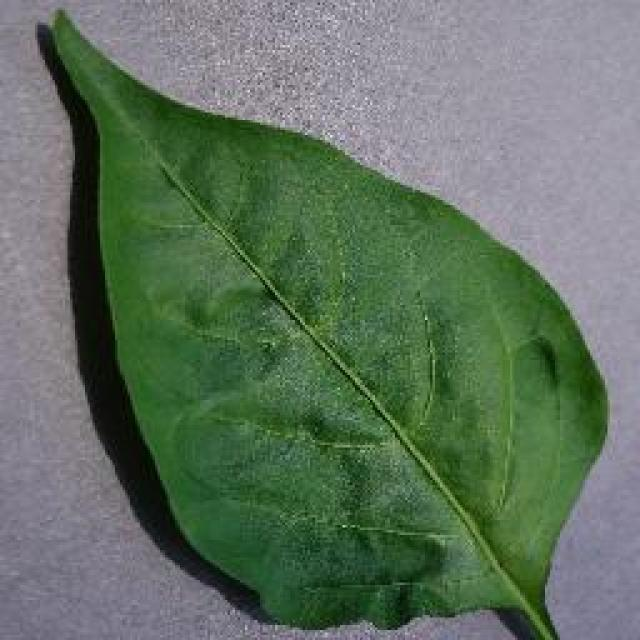Chilli_Healthy: (35, 5, 610, 637)
